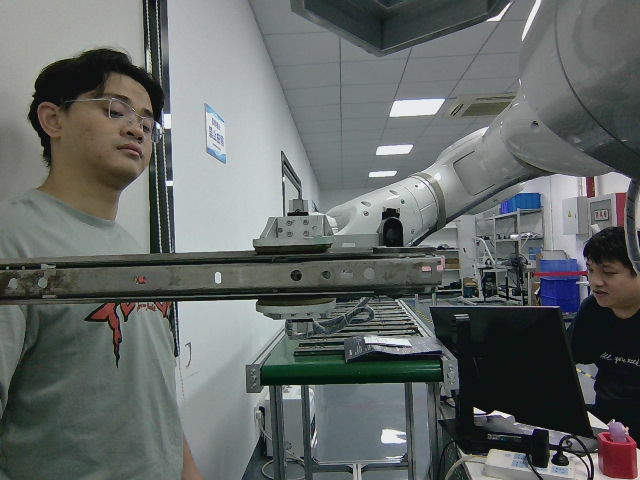right: (2, 244, 442, 307)
